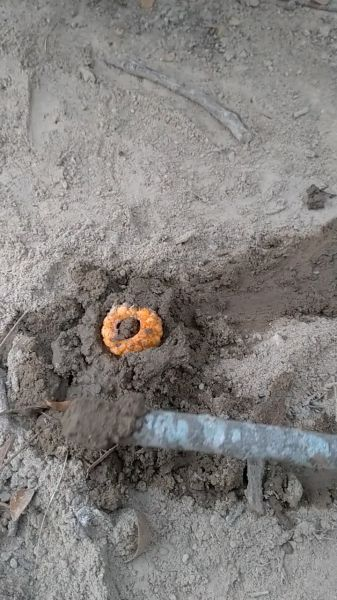eggs: (97, 299, 163, 361)
